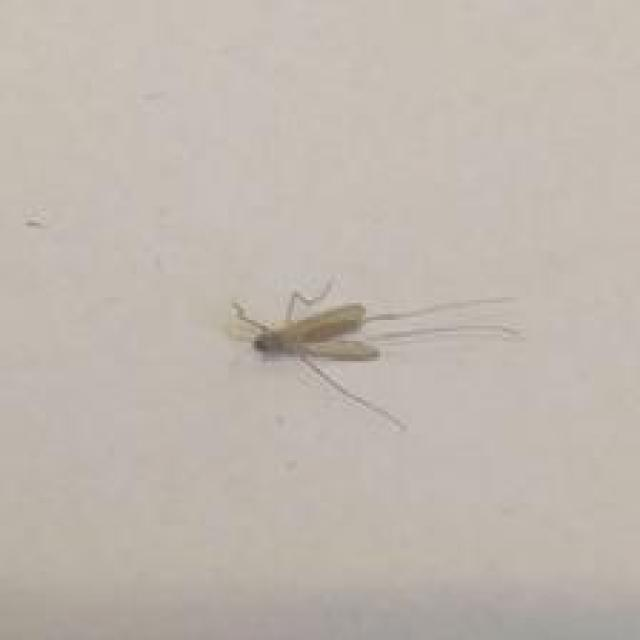Culex: (225, 277, 524, 434)
